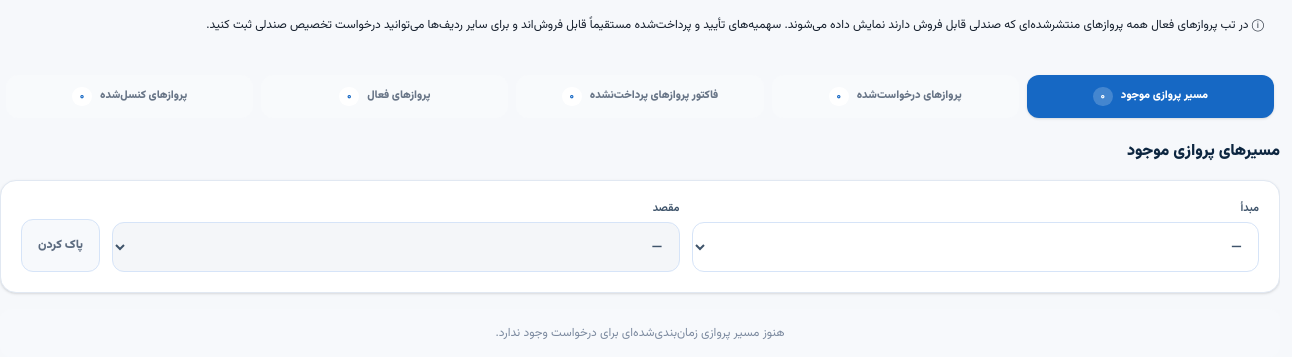
Test: AgencySeatsPage › shows the empty state when the agency has no allotments
Click the button "پروازهای فعال ۰" at [385, 96], box [261,75,508,118]
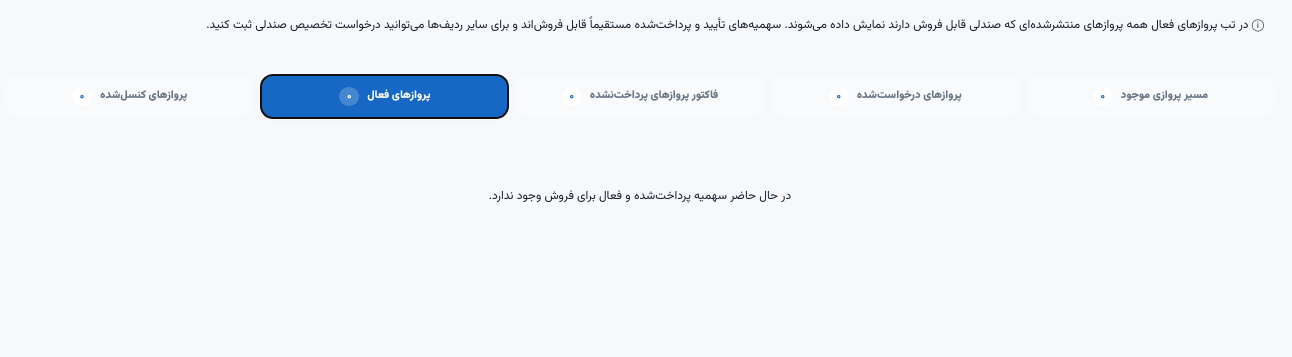
Now the text "در حال حاضر سهمیه پرداخت‌شده و فعال برای فروش وجود ندارد." is shown, box [489,187,791,205]
